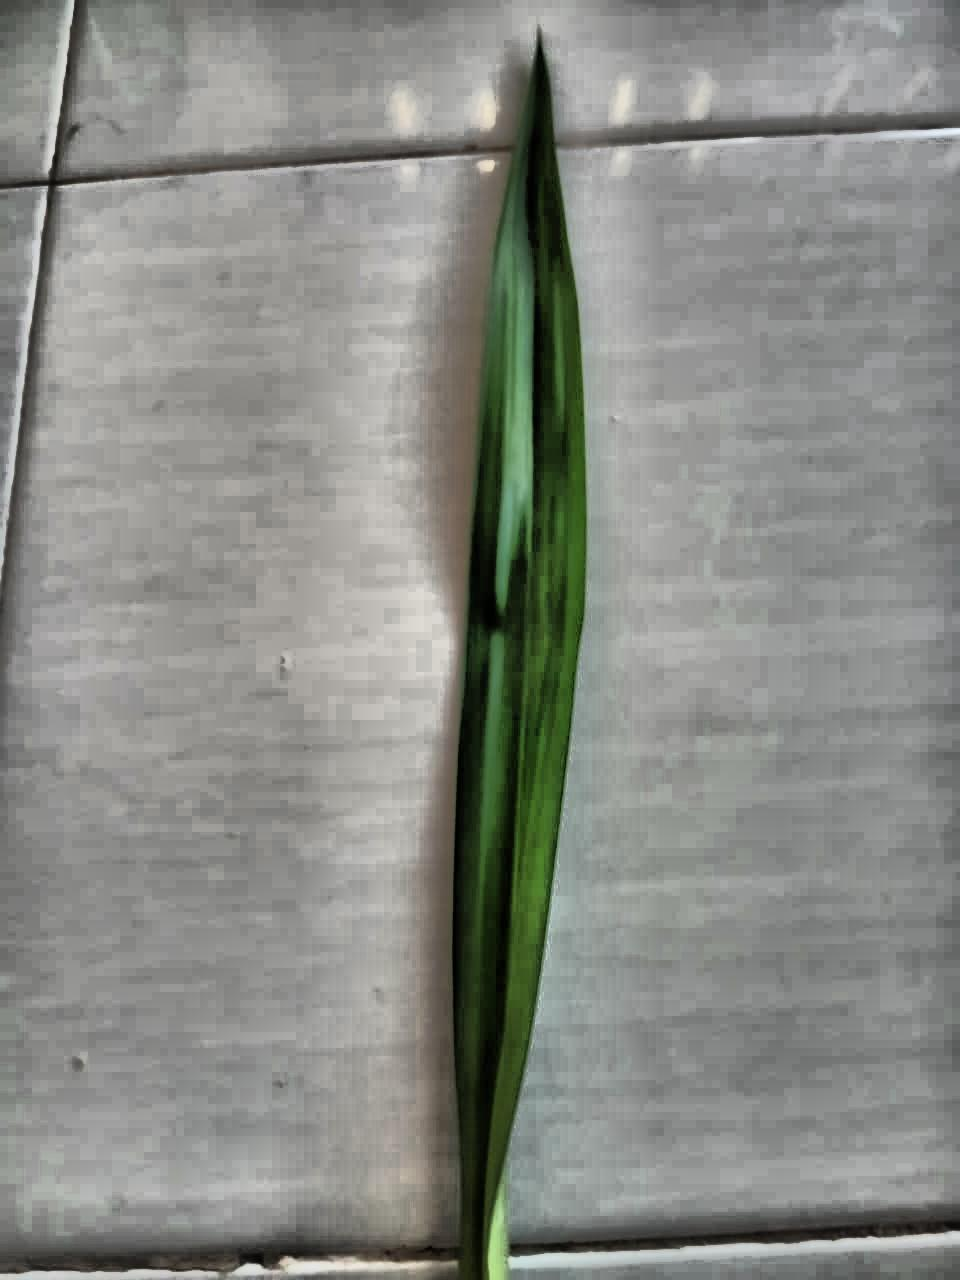daun pandan: (452, 36, 586, 1279)
